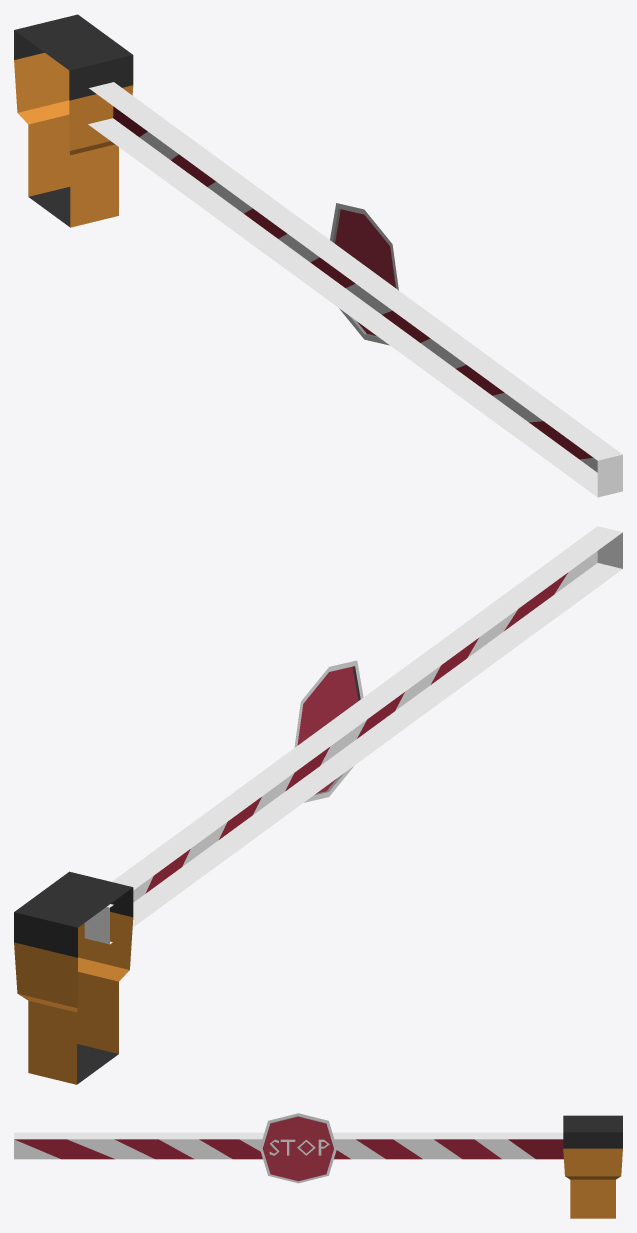
The model's file is RoadBarrier.fbx.
The picture shows the model from 3 angles, top to bottom: view 1: azimuth 30°, elevation 25°; view 2: azimuth 150°, elevation 25°; view 3: azimuth 270°, elevation 25°; orthographic projection. The views are drawn at different scales.
Parts seen in each view (by area): view 1: Cube.001, Cube, Plane; view 2: Cube.001, Cube, Plane; view 3: Cube.001, Cube, Plane.
Boxes of the visible parts, bbox=[...] form: Cube.001: bbox=[88, 82, 622, 497]; Cube: bbox=[14, 14, 133, 227]; Plane: bbox=[330, 203, 398, 345]; Cube.001: bbox=[84, 526, 622, 944]; Cube: bbox=[14, 871, 133, 1084]; Plane: bbox=[294, 660, 363, 802]; Cube.001: bbox=[14, 1132, 563, 1159]; Cube: bbox=[563, 1115, 622, 1218]; Plane: bbox=[259, 1113, 336, 1183].
Size of the model in its own units: 108 by 311 by 1655.
1 material, 1 textured.
